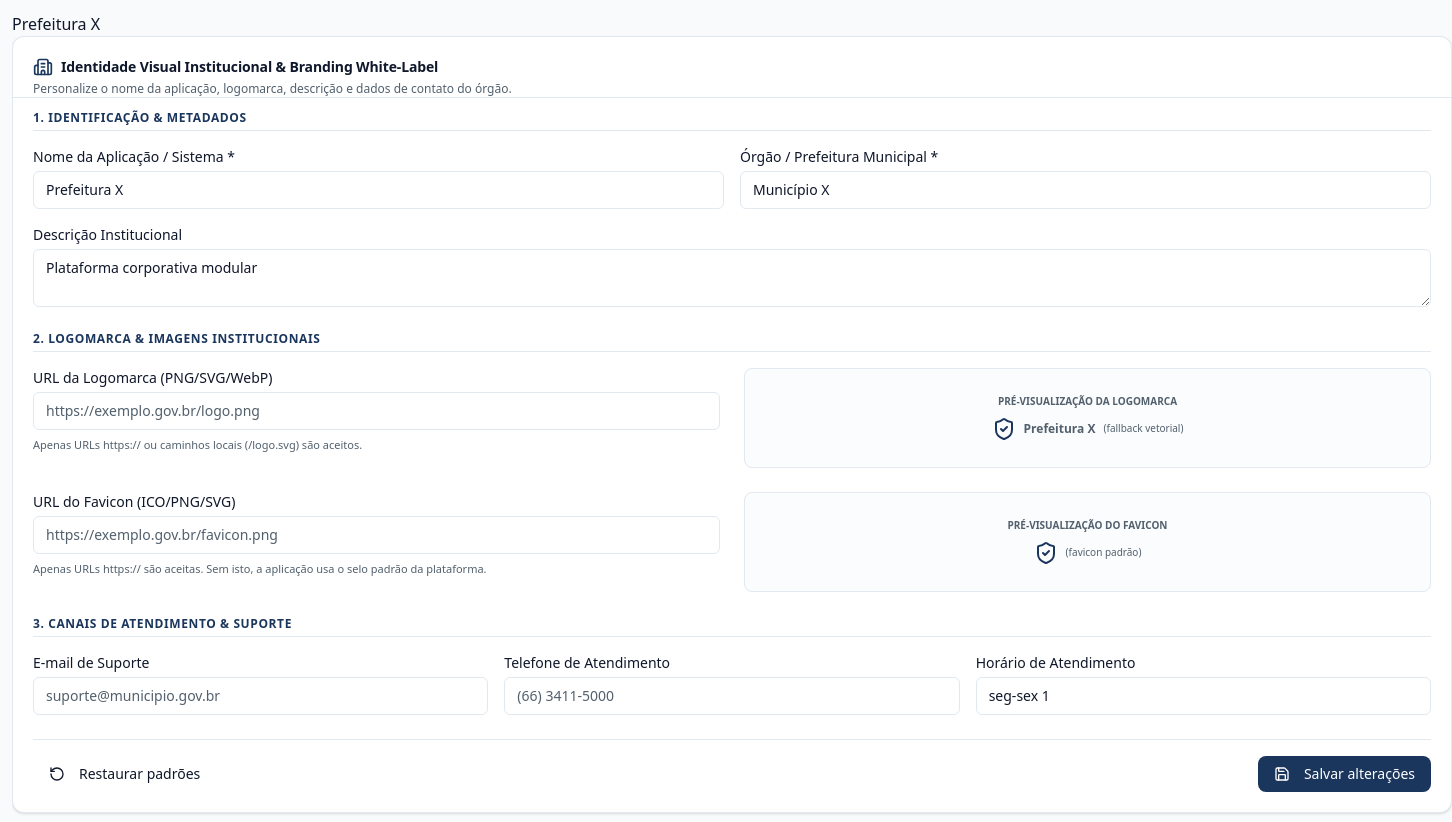
BrandingSettingsForm › salva no backend (tokens preservados) e a tela passa a usar a identidade salva
This screenshot has width=1452, height=822.
Replace the text in the field labelled "Nome da Aplicação / Sistema *" with "Portal do Cidadão " at (378, 190), box [33,171,724,209]
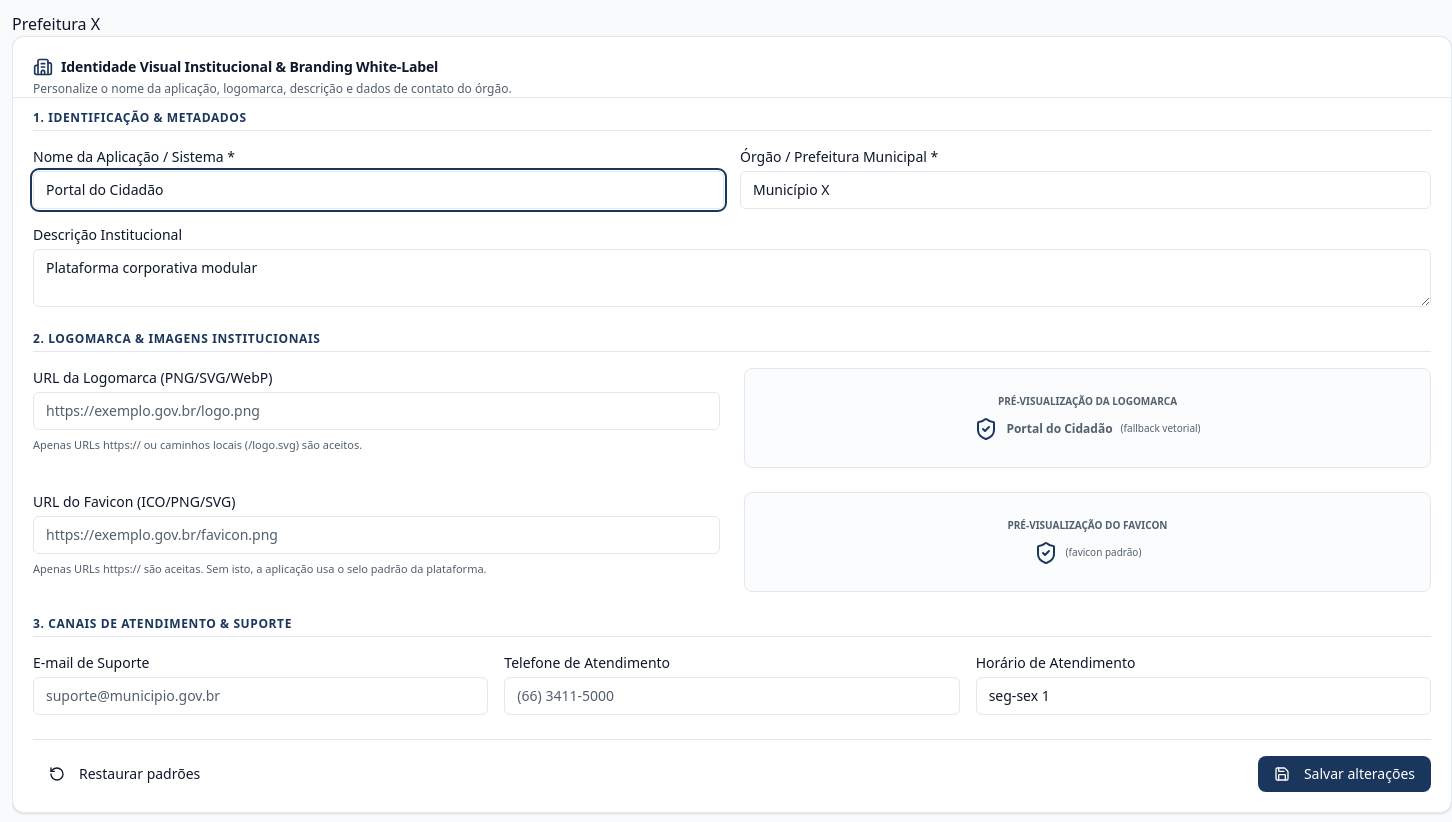
Type "https://cdn.gov.br/logo.png" into the field labelled "URL da Logomarca (PNG/SVG/WebP)" at (376, 411), box [33,392,720,430]
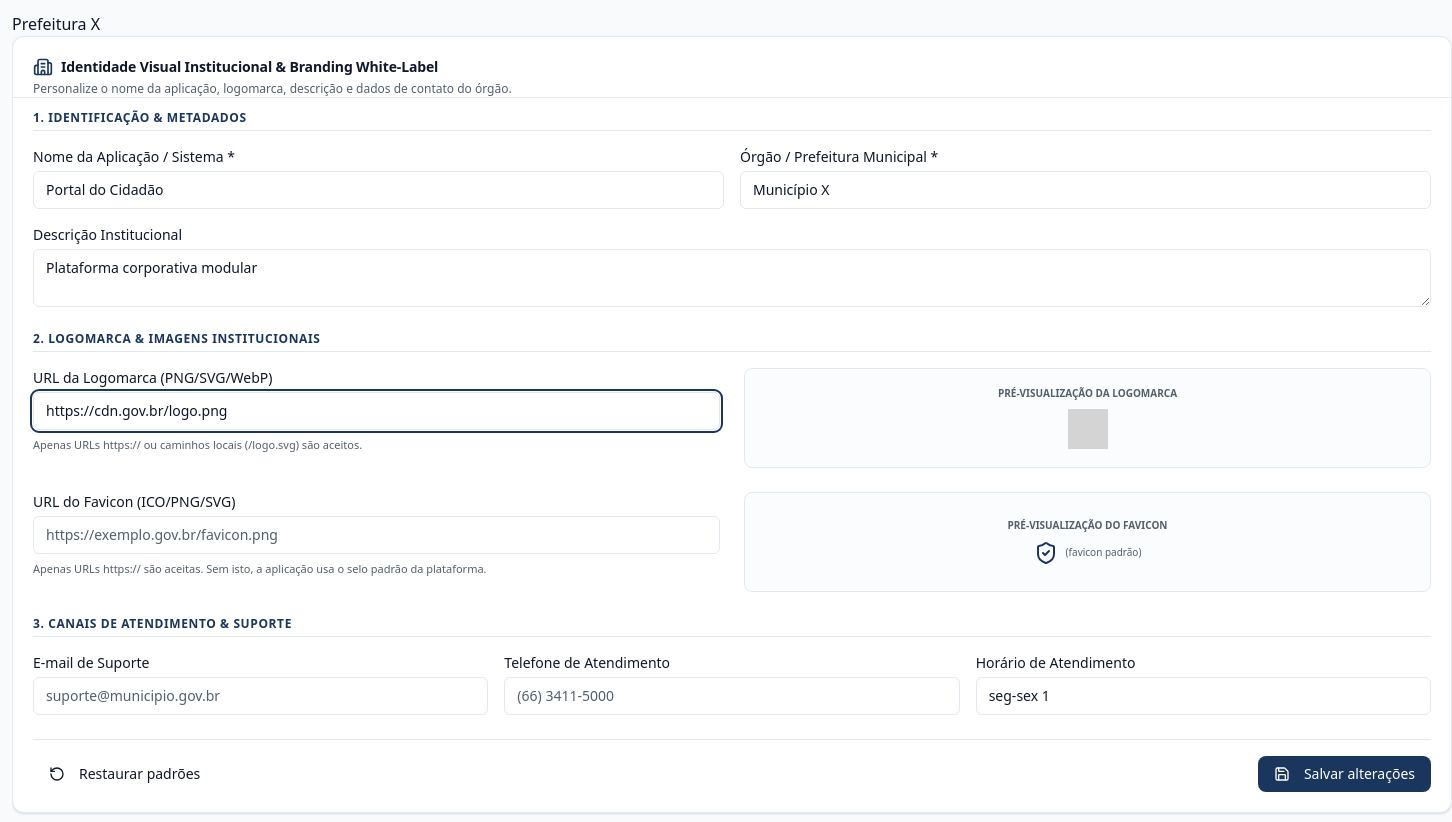
Type "suporte@x.gov.br" into the field labelled "E-mail de Suporte" at (261, 696), box [33,677,488,715]
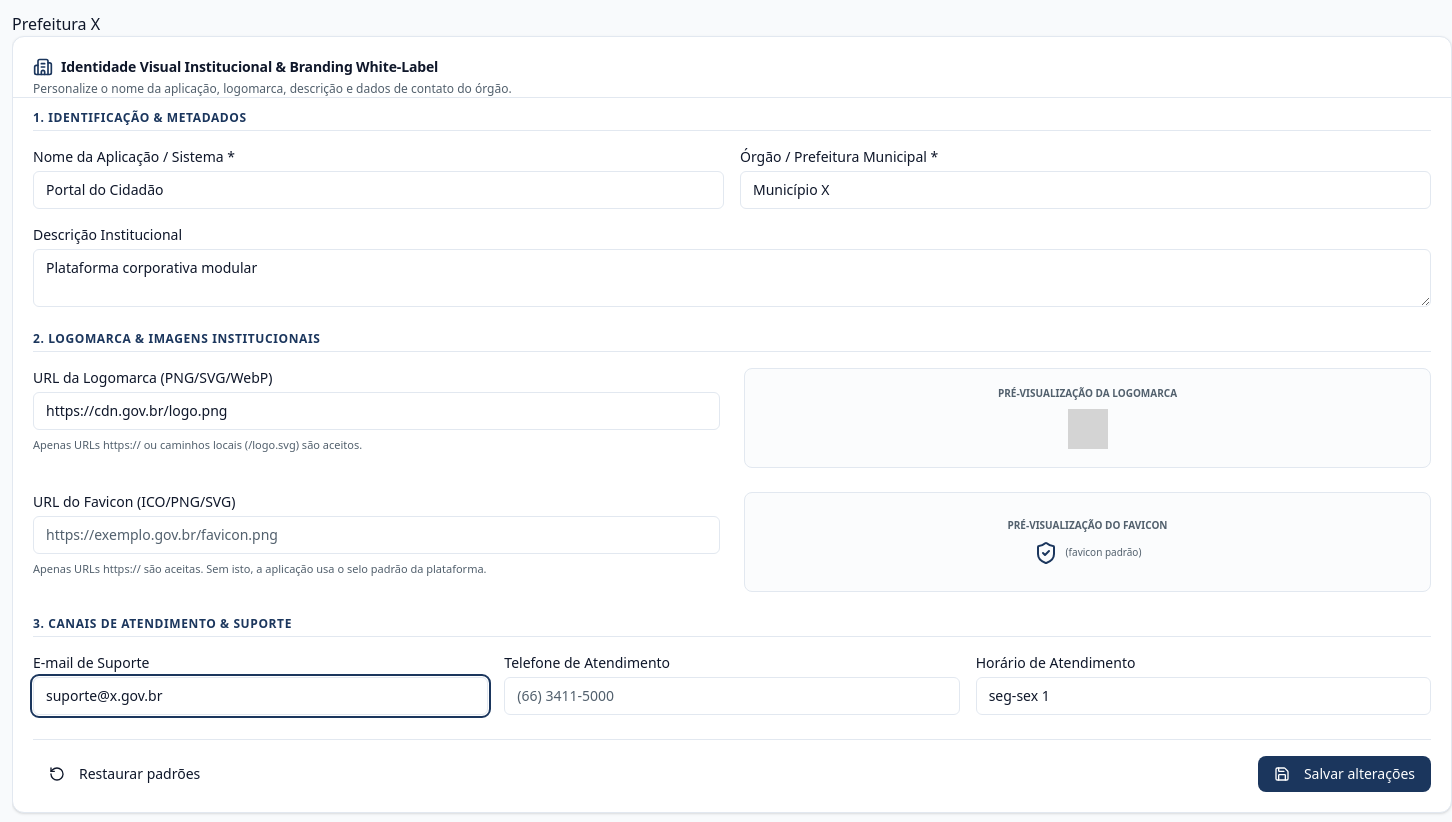
Click the button "Salvar alterações" at (1344, 774), box [1258,756,1431,792]
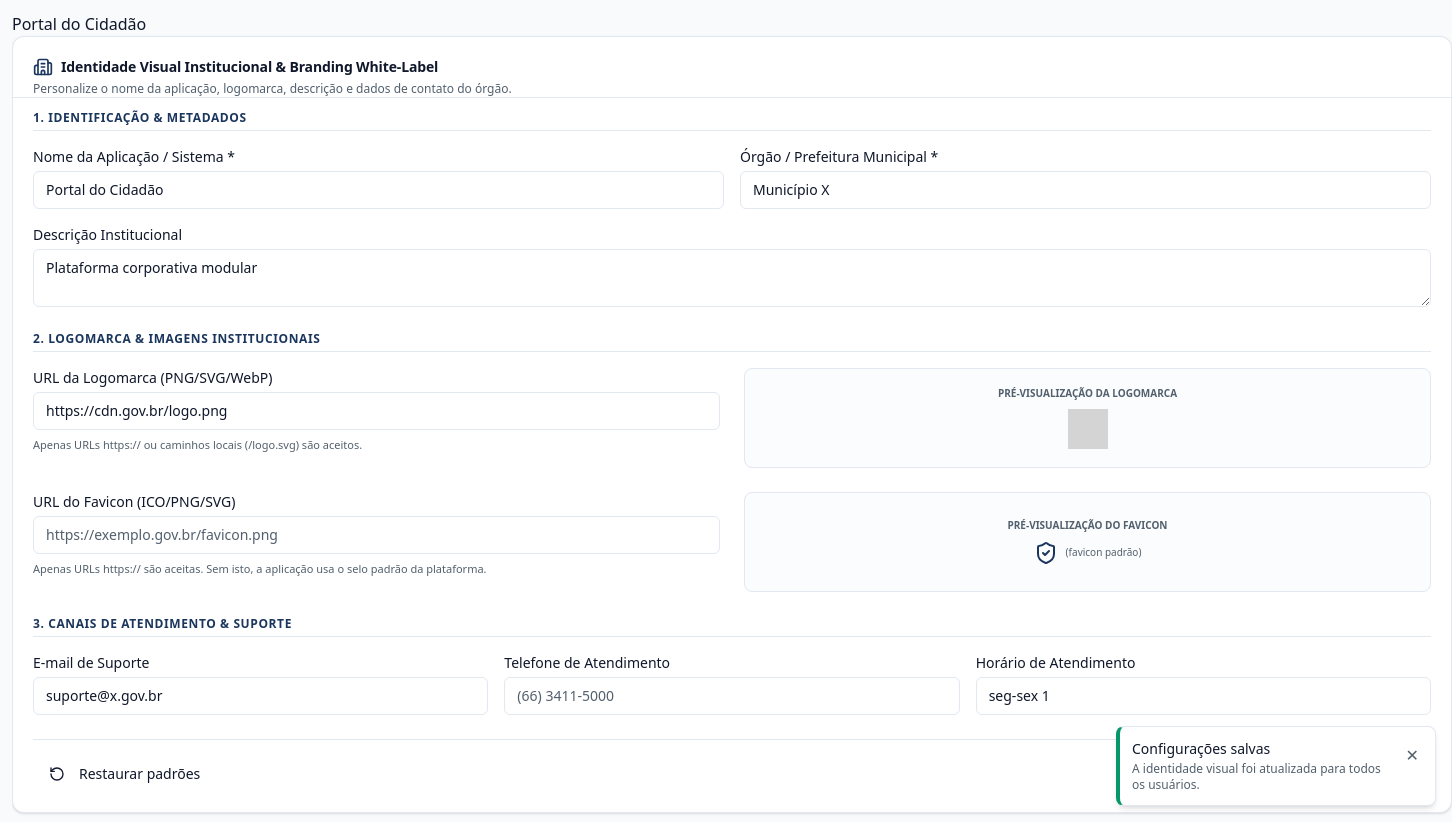
Now the text "Configurações salvas" is shown, box [1132,739,1270,758]
Now the text with test id "nome" reads "Portal do Cidadão", box [12,13,146,35]
